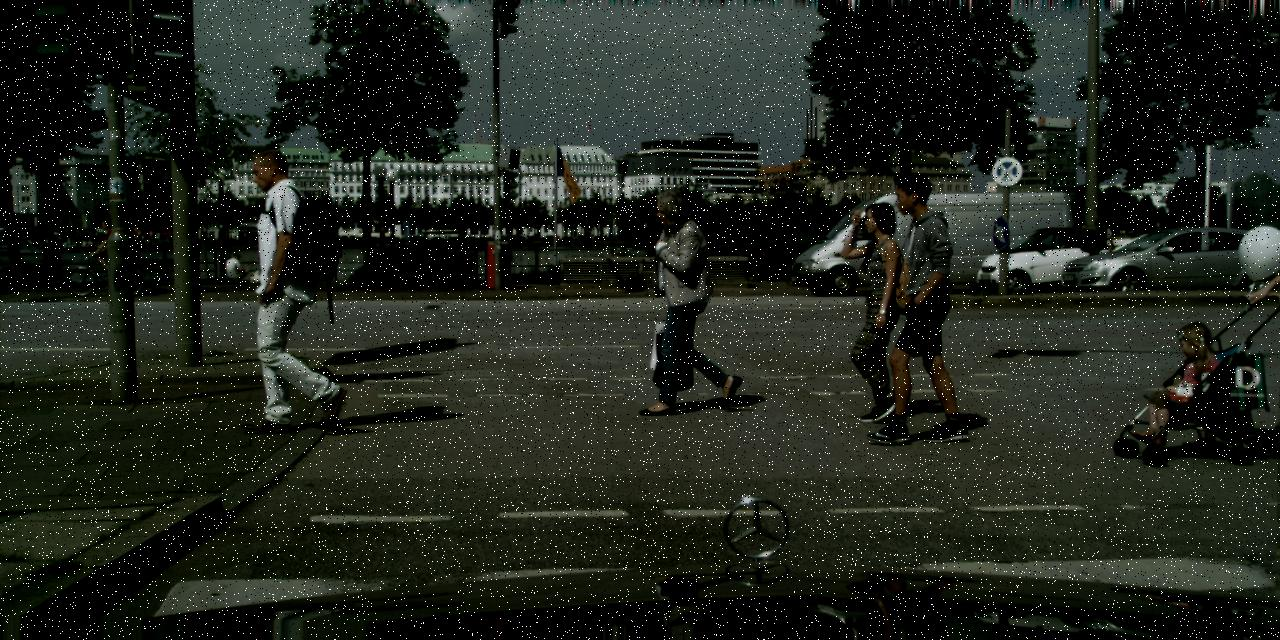ped: (230, 150, 345, 432), (860, 171, 970, 441), (640, 186, 731, 411), (836, 201, 926, 422), (95, 220, 122, 286), (122, 224, 146, 282), (1094, 217, 1112, 262), (1069, 218, 1087, 262)
